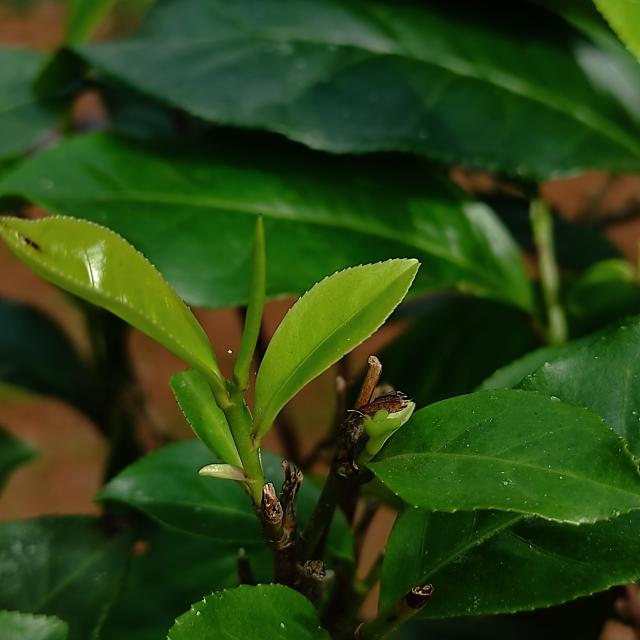unopened_leaf: (222, 210, 282, 412)
